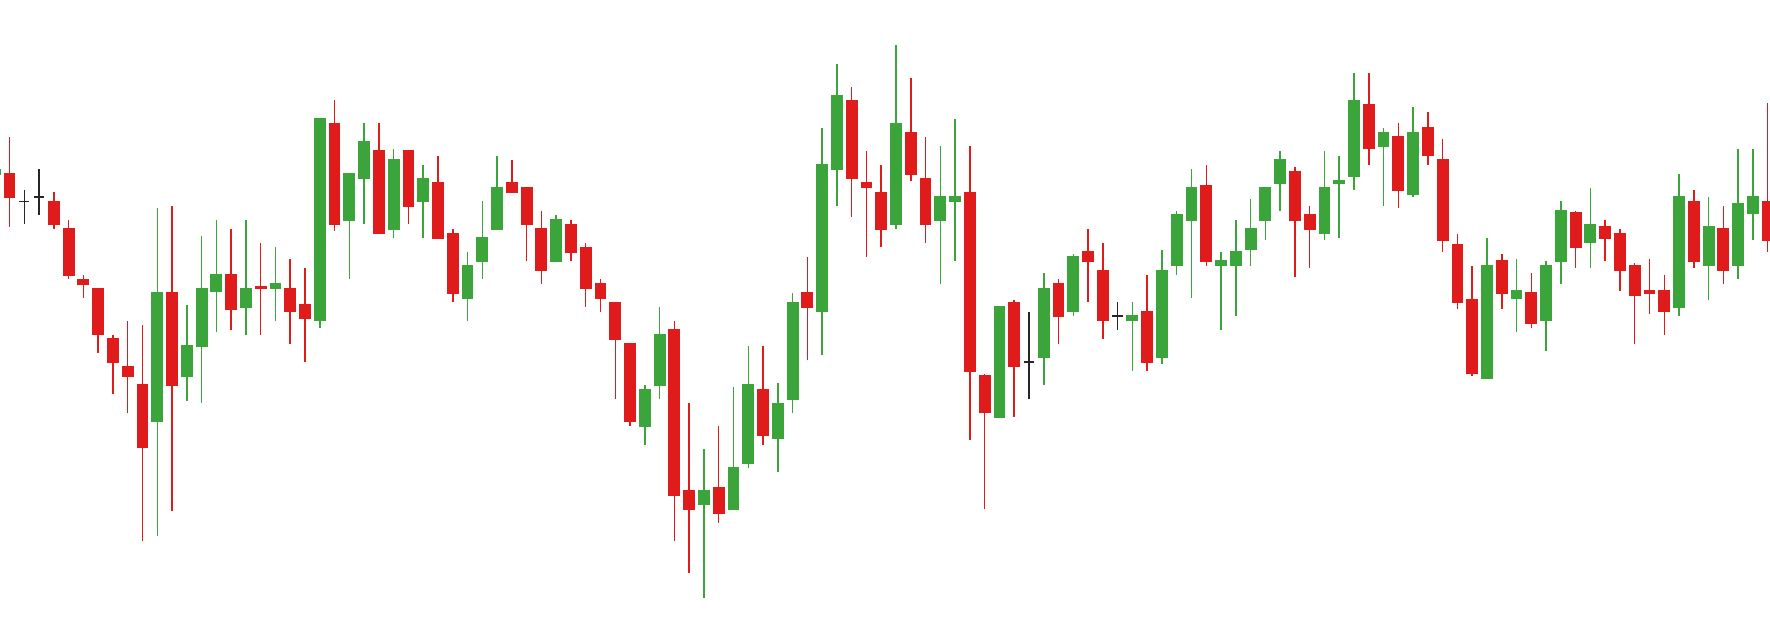buy: (1213, 192, 1496, 384)
